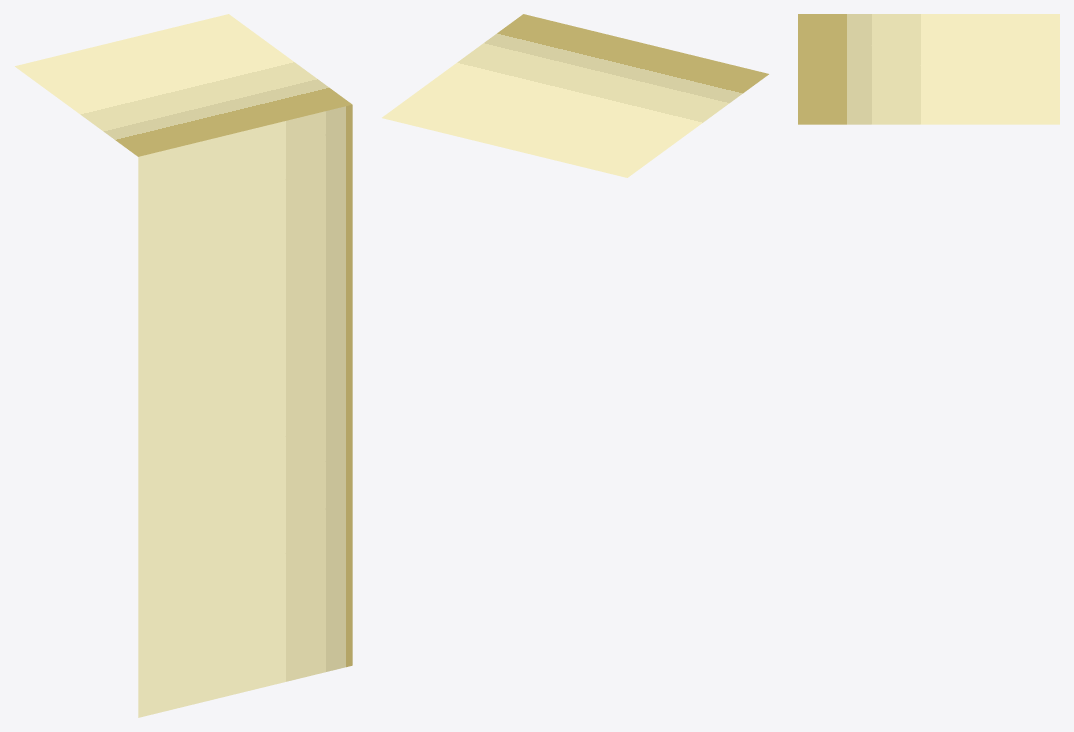
3 renders of one model, left to right at view 1: azimuth 30°, elevation 25°; view 2: azimuth 150°, elevation 25°; view 3: azimuth 270°, elevation 25°, orthographic. The views are drawn at different scales.
Bounding box in the file's own units: 1 × 2.5 × 1.
1 material, 1 textured.
